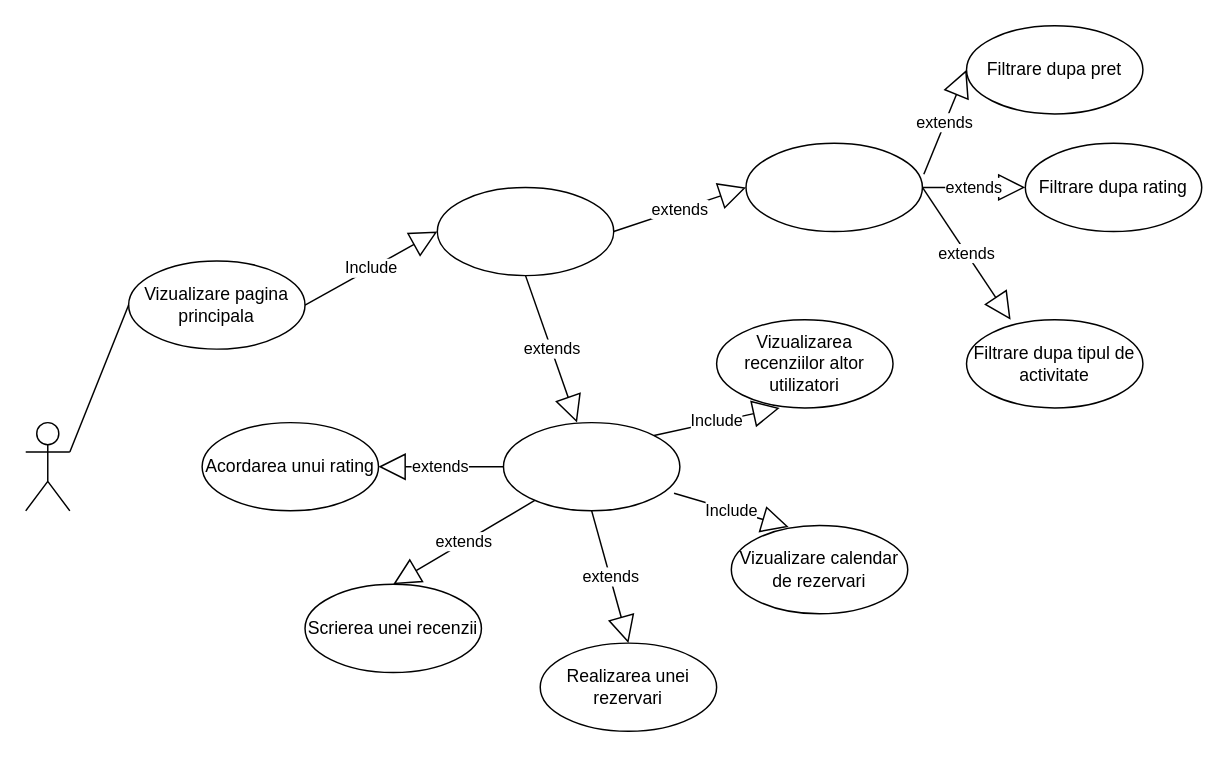
Image size: 1227x757. Some labels were removed from this diagram. Each missing label, with the box of its shape:
Actor: (24, 421, 70, 511)
Filtrare destinatii: (745, 142, 922, 232)
Vizualizare detalii despre destinatii: (502, 421, 680, 511)
Vizualizare lista destinatii: (436, 186, 614, 276)
